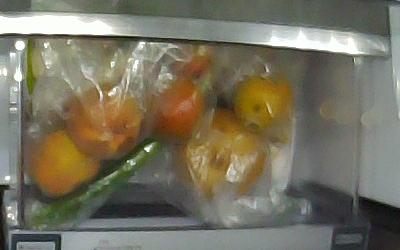pear_vinyl: (179, 109, 265, 198), (65, 84, 148, 160), (31, 133, 100, 199)
tangerine_vinyl: (233, 74, 291, 128)
tomato_vinyl: (145, 75, 202, 139)
